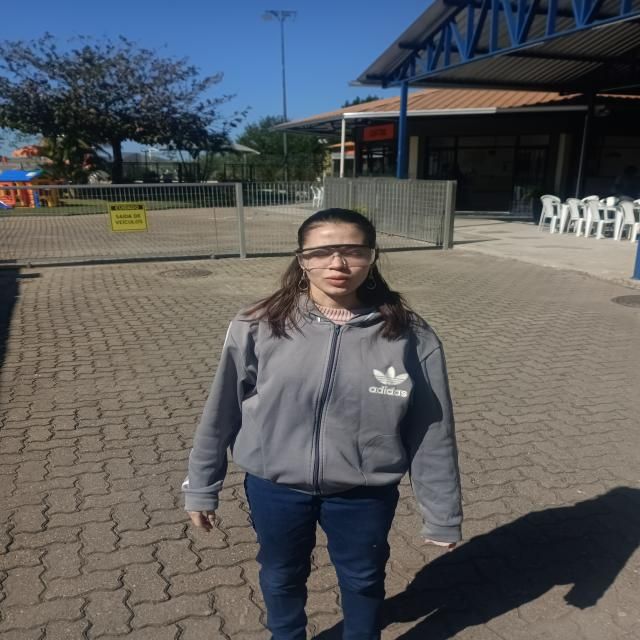oculos-epi: (295, 244, 375, 269)
